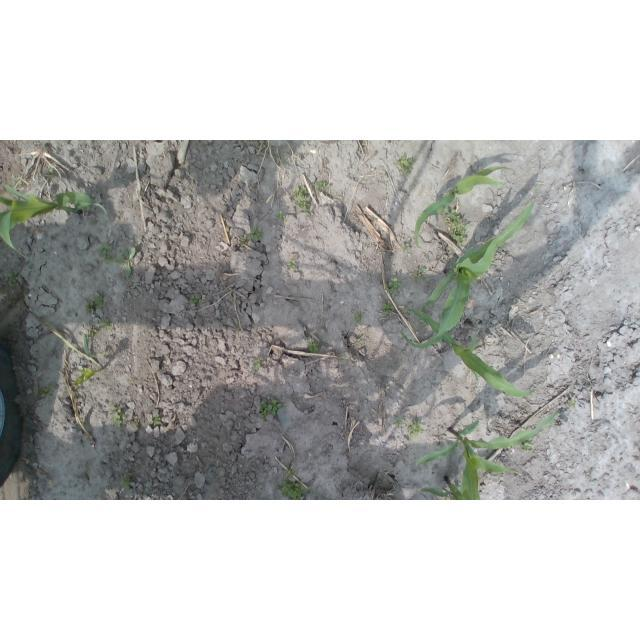Maize: (400, 179, 540, 350), (416, 409, 556, 500), (403, 308, 535, 397), (414, 165, 515, 248), (0, 182, 108, 259), (418, 474, 463, 500)
Weeds: (444, 208, 470, 248), (116, 247, 137, 278), (280, 478, 308, 500), (292, 184, 312, 212), (259, 396, 282, 420), (73, 367, 96, 388), (84, 292, 104, 315), (99, 243, 117, 263), (110, 406, 126, 428), (395, 155, 413, 173), (408, 421, 425, 440), (385, 278, 403, 295), (35, 384, 53, 396), (413, 267, 429, 280), (314, 179, 330, 192), (249, 227, 263, 241), (383, 299, 395, 315), (149, 413, 162, 427), (308, 340, 321, 354), (8, 270, 19, 286), (520, 437, 532, 451), (100, 319, 112, 331), (119, 476, 129, 489), (252, 358, 261, 371), (354, 312, 363, 325), (88, 327, 98, 338), (276, 211, 287, 221), (189, 296, 200, 305), (287, 260, 297, 269), (288, 468, 297, 478), (132, 419, 141, 428), (45, 167, 55, 175), (568, 396, 576, 406), (396, 417, 405, 425), (239, 236, 247, 244), (403, 244, 410, 253), (12, 176, 20, 183), (280, 156, 288, 163), (84, 461, 89, 468), (356, 339, 361, 345), (236, 323, 241, 329), (319, 496, 325, 500), (589, 473, 593, 478)
